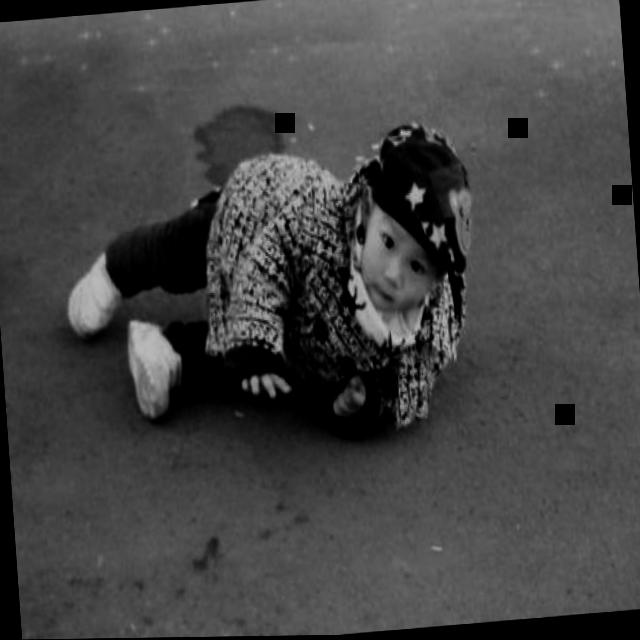Fall-Detected: (64, 55, 498, 488)
